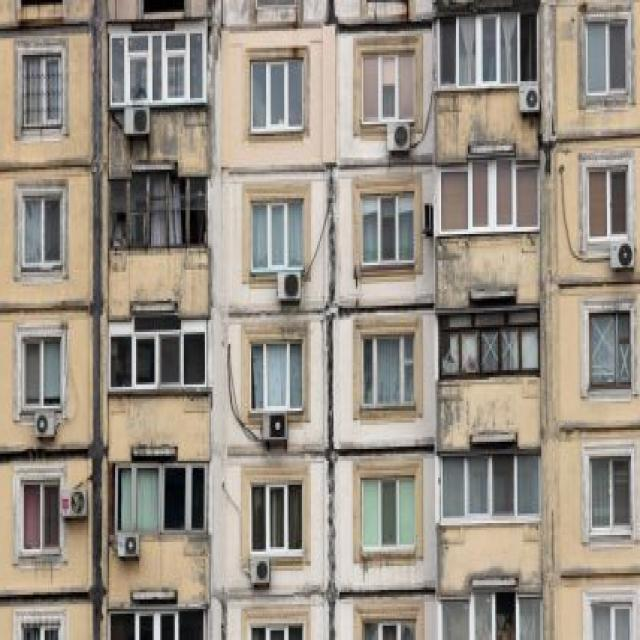Window: (108, 324, 205, 392), (118, 26, 202, 98), (442, 167, 538, 229), (444, 456, 537, 518), (115, 181, 208, 239), (446, 324, 534, 380), (120, 470, 204, 528), (458, 12, 518, 88), (367, 332, 418, 406), (447, 594, 541, 632), (363, 484, 413, 554), (254, 59, 302, 130), (366, 195, 412, 268), (256, 203, 308, 263), (254, 487, 307, 542), (257, 344, 299, 411), (589, 318, 628, 390), (365, 62, 410, 119), (586, 170, 627, 232), (24, 200, 60, 270), (590, 460, 626, 530), (23, 59, 58, 130), (25, 484, 57, 552), (592, 22, 624, 88), (112, 614, 204, 633), (26, 346, 58, 399), (251, 618, 307, 636), (20, 616, 61, 635), (368, 616, 416, 631), (594, 609, 630, 628)
